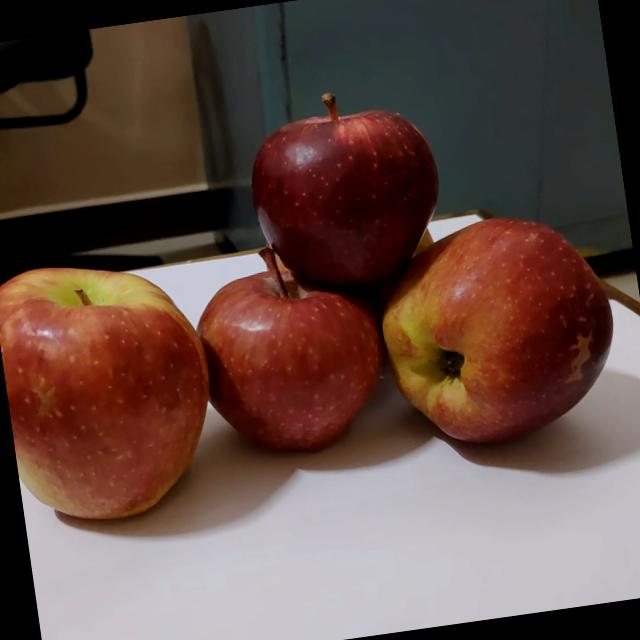apple: (365, 197, 631, 461), (0, 242, 228, 537), (235, 68, 460, 306), (183, 226, 399, 472), (391, 212, 445, 279)
